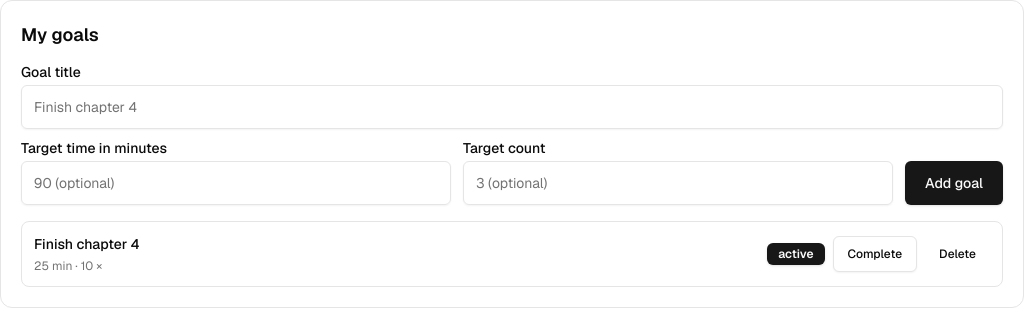
GoalsPanel › completes a goal through the returned row
The width and height of the screenshot is (1024, 325).
What coordinates should you click on to do the following:
click the button "Complete"
I would click on:
 (875, 254)
Its box is [832, 236, 917, 272].
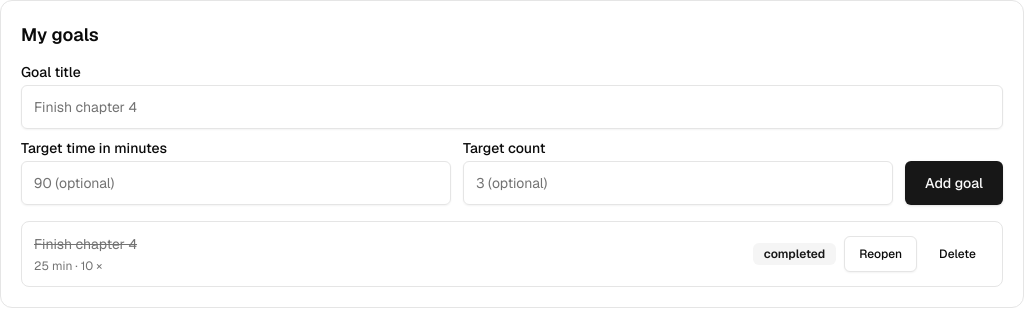
Result: the button "Reopen" is shown at [844, 236, 917, 272]
Result: the text "completed" is shown at [753, 243, 836, 265]
